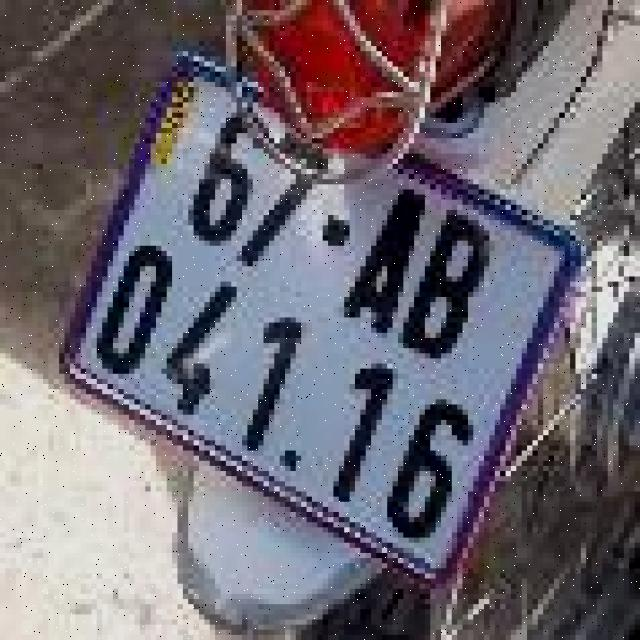0: (77, 235, 198, 392)
1: (311, 352, 421, 516), (221, 308, 323, 468)
4: (143, 276, 269, 426)
6: (366, 385, 494, 561), (162, 93, 293, 260)
7: (219, 130, 350, 284)
A: (324, 171, 453, 352)
B: (392, 203, 519, 380)
